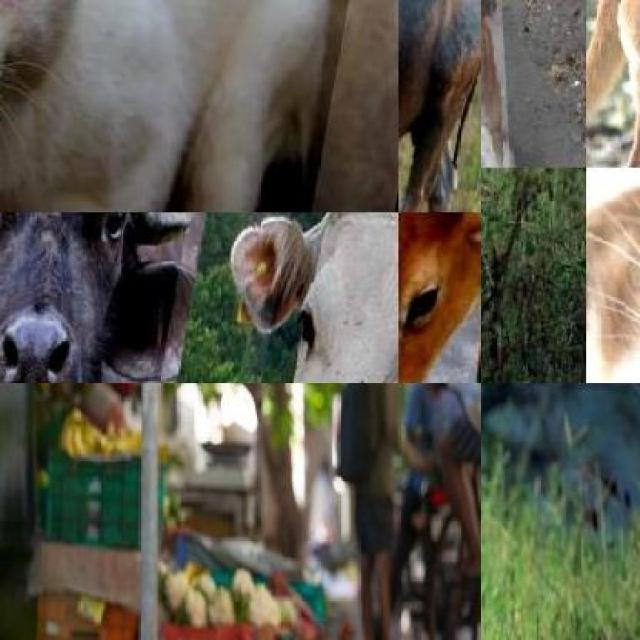buffalo: (0, 212, 211, 383), (398, 0, 479, 212)
cat: (0, 0, 380, 212)
cow: (217, 212, 398, 383), (398, 212, 480, 383)
dog: (480, 0, 511, 168)
